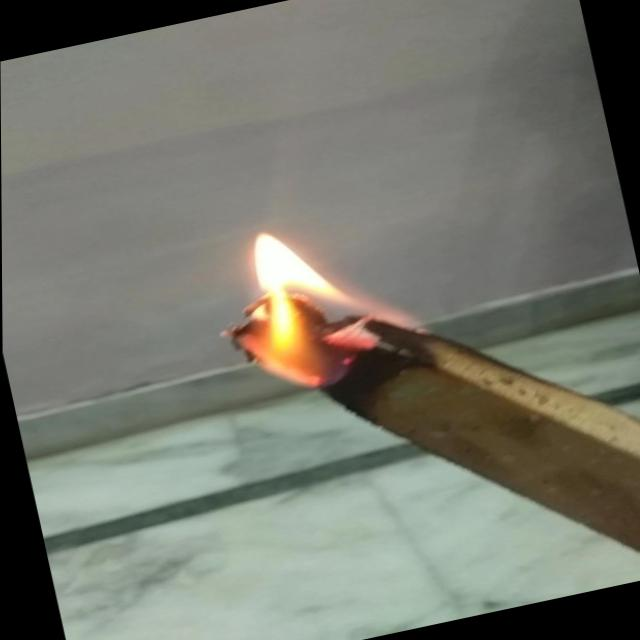fire: (178, 199, 430, 416)
